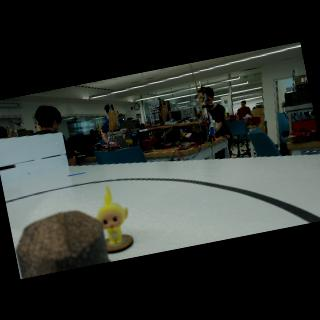teletubby: (96, 186, 128, 244)
